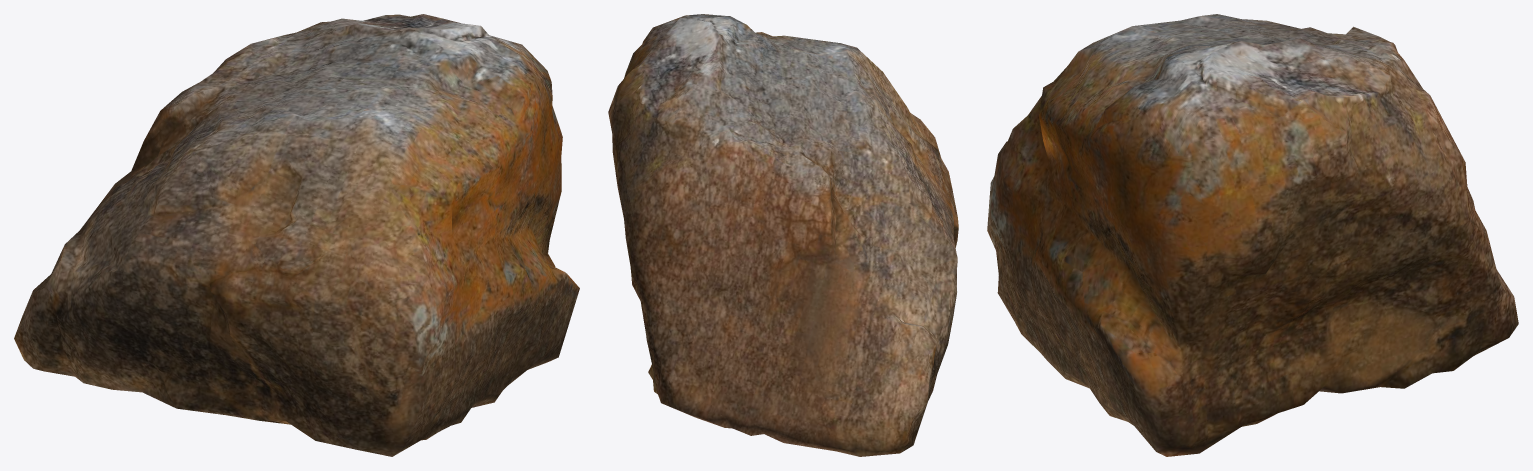
Rendered from rock_namaqualand_boulder_04.48a8890ea9.glb.
The picture shows the model from 3 angles, left to right: view 1: azimuth 30°, elevation 25°; view 2: azimuth 150°, elevation 25°; view 3: azimuth 270°, elevation 25°; orthographic projection. The views are drawn at different scales.
Parts seen in each view (by area): view 1: namaqualand_boulder_04; view 2: namaqualand_boulder_04; view 3: namaqualand_boulder_04.
Boxes of the visible parts, x1=… form: namaqualand_boulder_04: x1=14, y1=14, x2=579, y2=456; namaqualand_boulder_04: x1=608, y1=14, x2=958, y2=456; namaqualand_boulder_04: x1=987, y1=14, x2=1518, y2=456.
Size of the model in its own units: 0.9967 by 0.748 by 0.991.
Materials: 1 (1 with a texture image).
